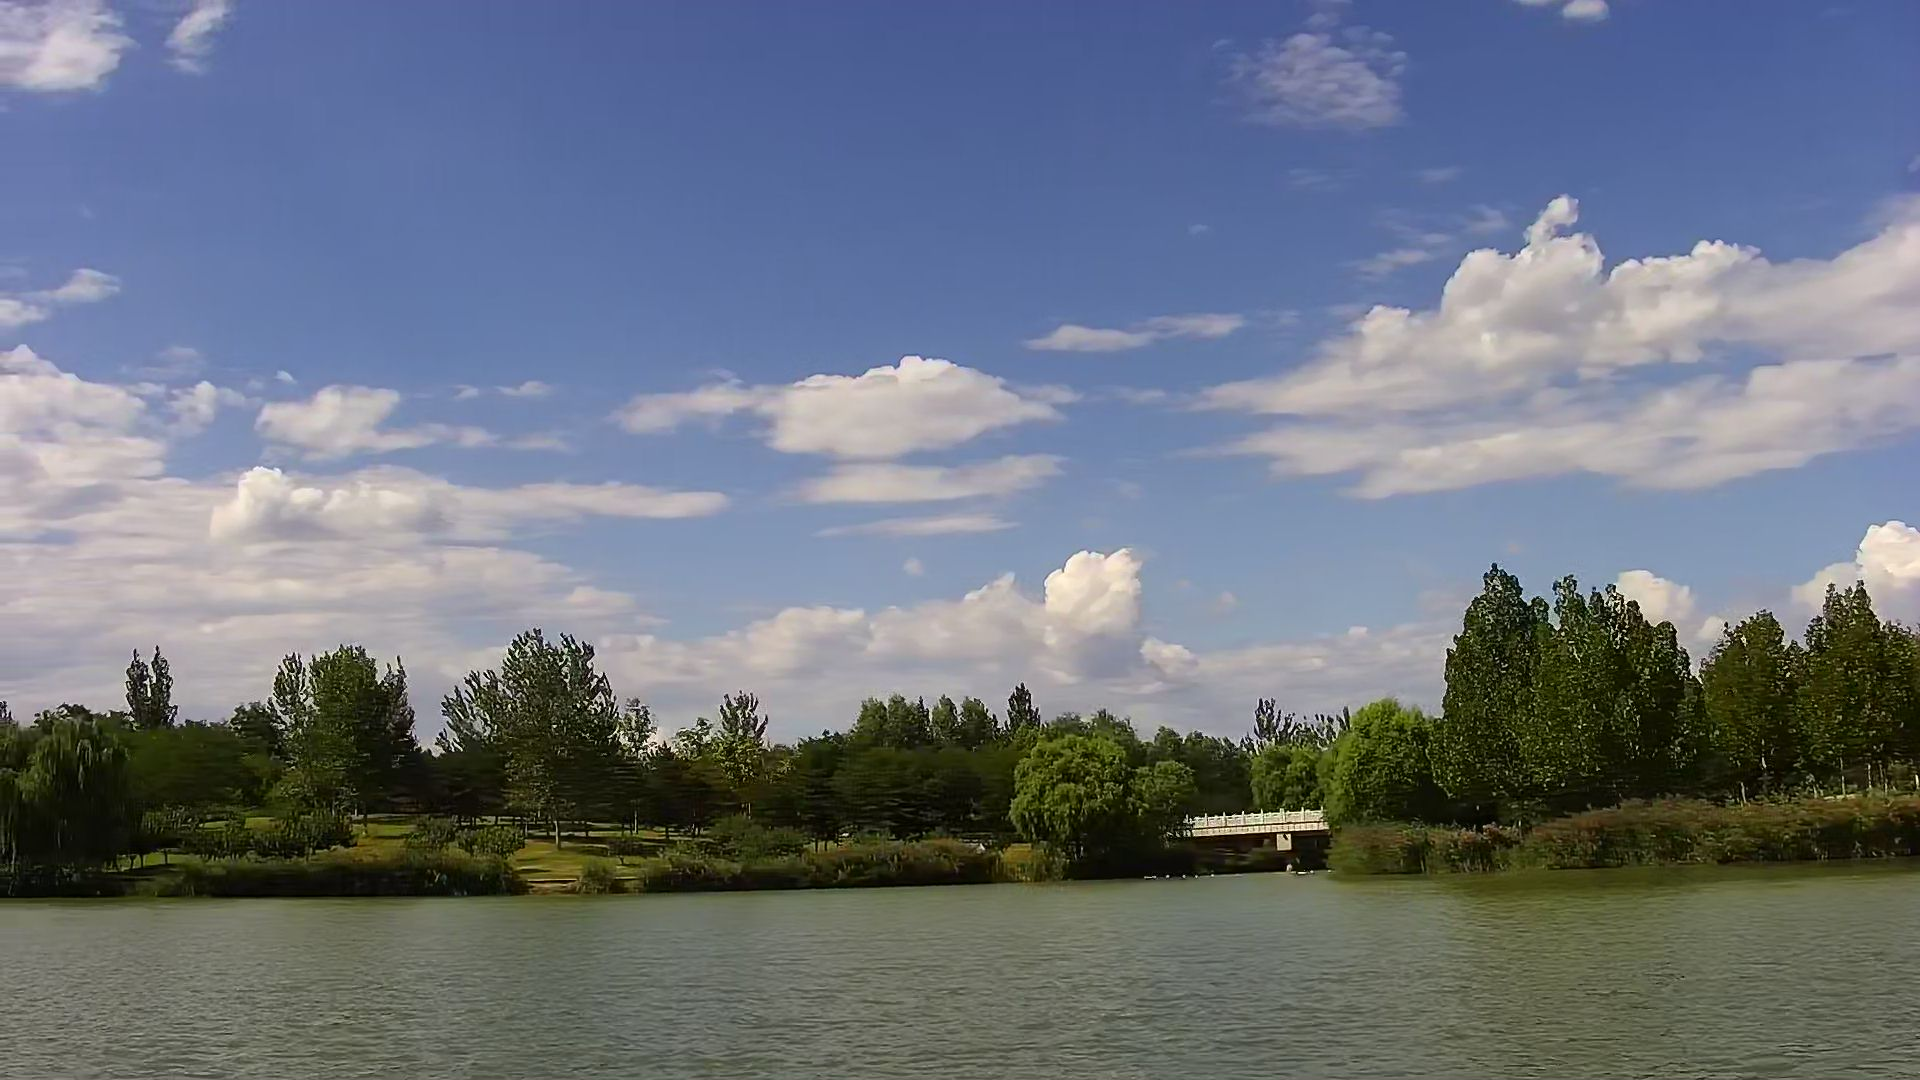bridge: (1189, 808, 1320, 876)
